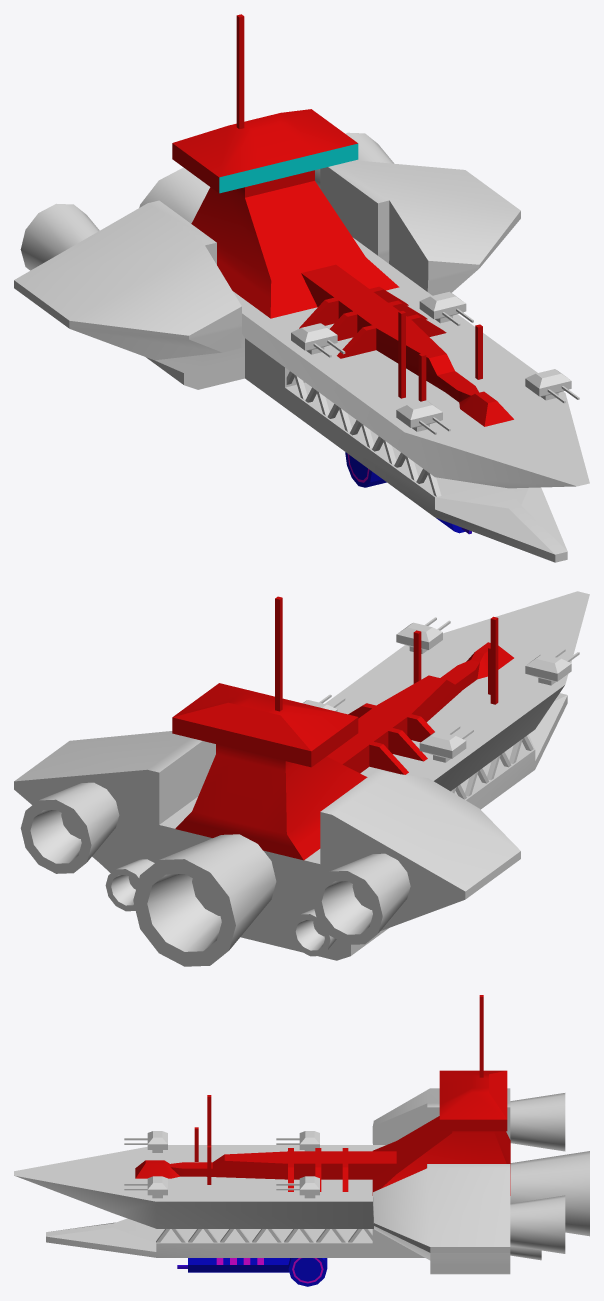
File: Space_Ship_grp1.fbx
3 renders of one model, top to bottom at view 1: azimuth 30°, elevation 25°; view 2: azimuth 150°, elevation 25°; view 3: azimuth 270°, elevation 25°, orthographic. The views are drawn at different scales.
Visible parts, largest first — view 1: Ship_Body, Ship_Top, Ship_Boosters, Ship_Guns, Shp_Mid, Ship_Laser; view 2: Ship_Body, Ship_Top, Ship_Boosters, Ship_Guns, Shp_Mid; view 3: Ship_Body, Ship_Top, Ship_Boosters, Ship_Laser, Ship_Guns, Shp_Mid.
Part boxes in pixels (x1,y1,x2,y2): Ship_Body: (14, 160, 589, 562); Ship_Top: (172, 14, 513, 426); Ship_Boosters: (20, 132, 393, 270); Ship_Guns: (291, 291, 579, 434); Shp_Mid: (286, 371, 441, 496); Ship_Laser: (345, 452, 471, 534); Ship_Body: (14, 591, 589, 960); Ship_Top: (172, 596, 513, 860); Ship_Boosters: (20, 782, 410, 966); Ship_Guns: (303, 617, 579, 762); Shp_Mid: (451, 736, 533, 799); Ship_Body: (14, 1088, 510, 1274); Ship_Top: (135, 995, 510, 1195); Ship_Boosters: (510, 1093, 589, 1260); Ship_Laser: (177, 1258, 327, 1286); Ship_Guns: (124, 1131, 319, 1198); Shp_Mid: (156, 1229, 372, 1242).
Bounding box in the file's own units: 29.36 × 23.71 × 44.96.
